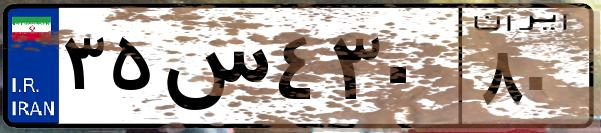0: (385, 28, 445, 110), (525, 38, 570, 115)
3: (330, 28, 385, 110), (57, 26, 110, 100)
4: (270, 28, 330, 110)
5: (110, 28, 158, 98)
8: (475, 38, 525, 113)
س: (158, 20, 270, 120)
